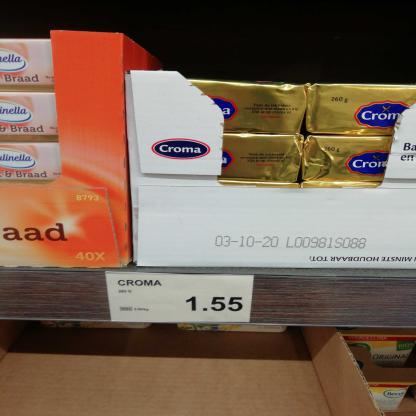prtg: (107, 272, 255, 323)
